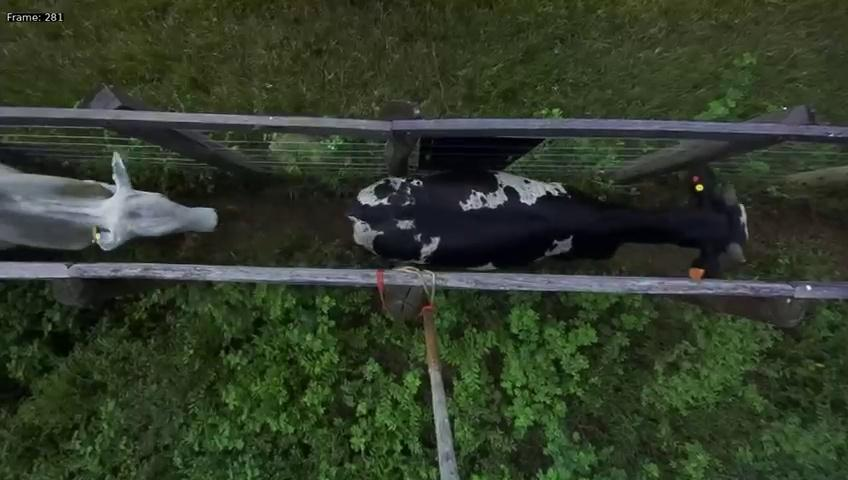cattle: (333, 156, 760, 285)
